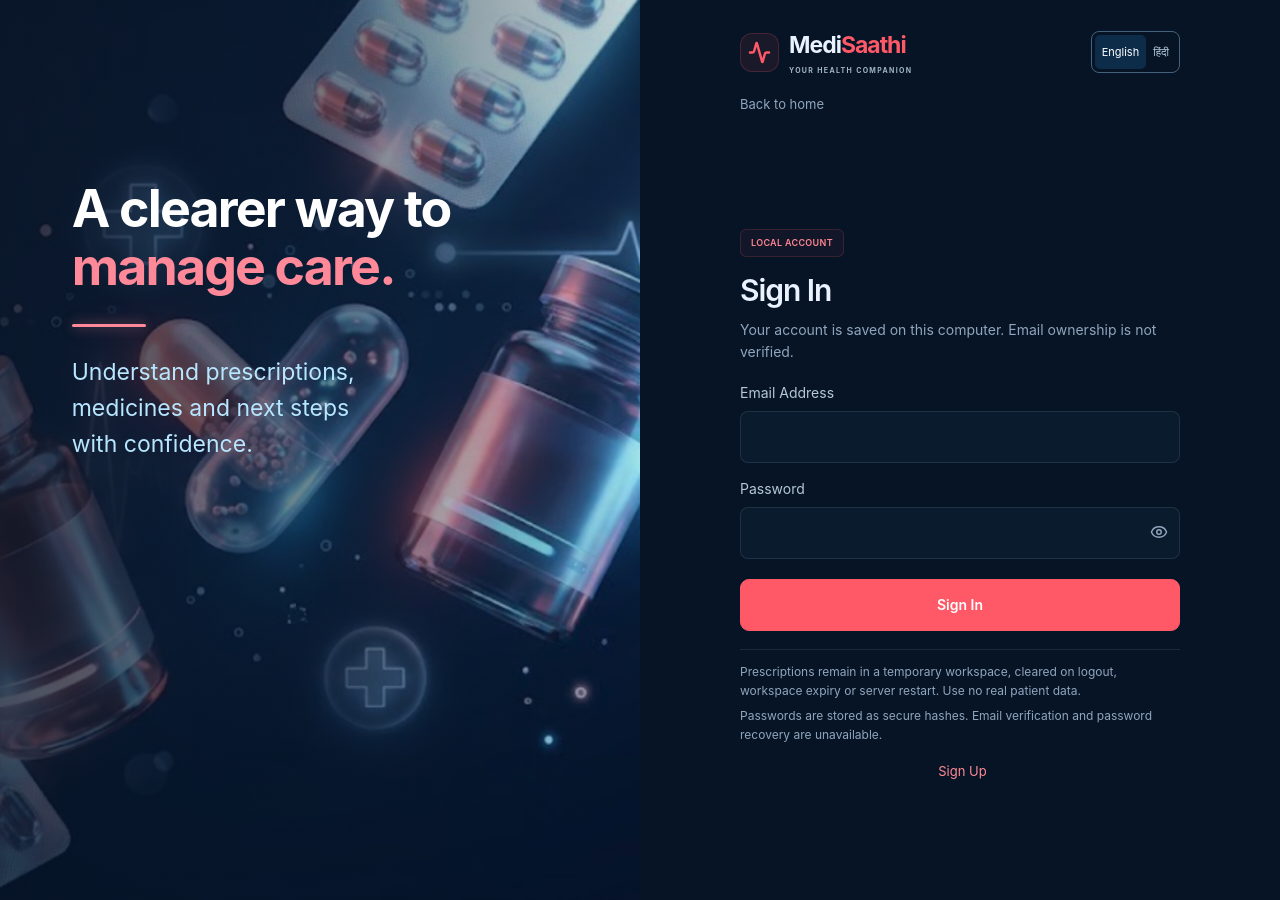
Test: shows rate_limited without fake success
Step 1. Type "asha@example.test" into the field labelled "Email Address" → (960, 437), box x1=740 y1=411 x2=1180 y2=463
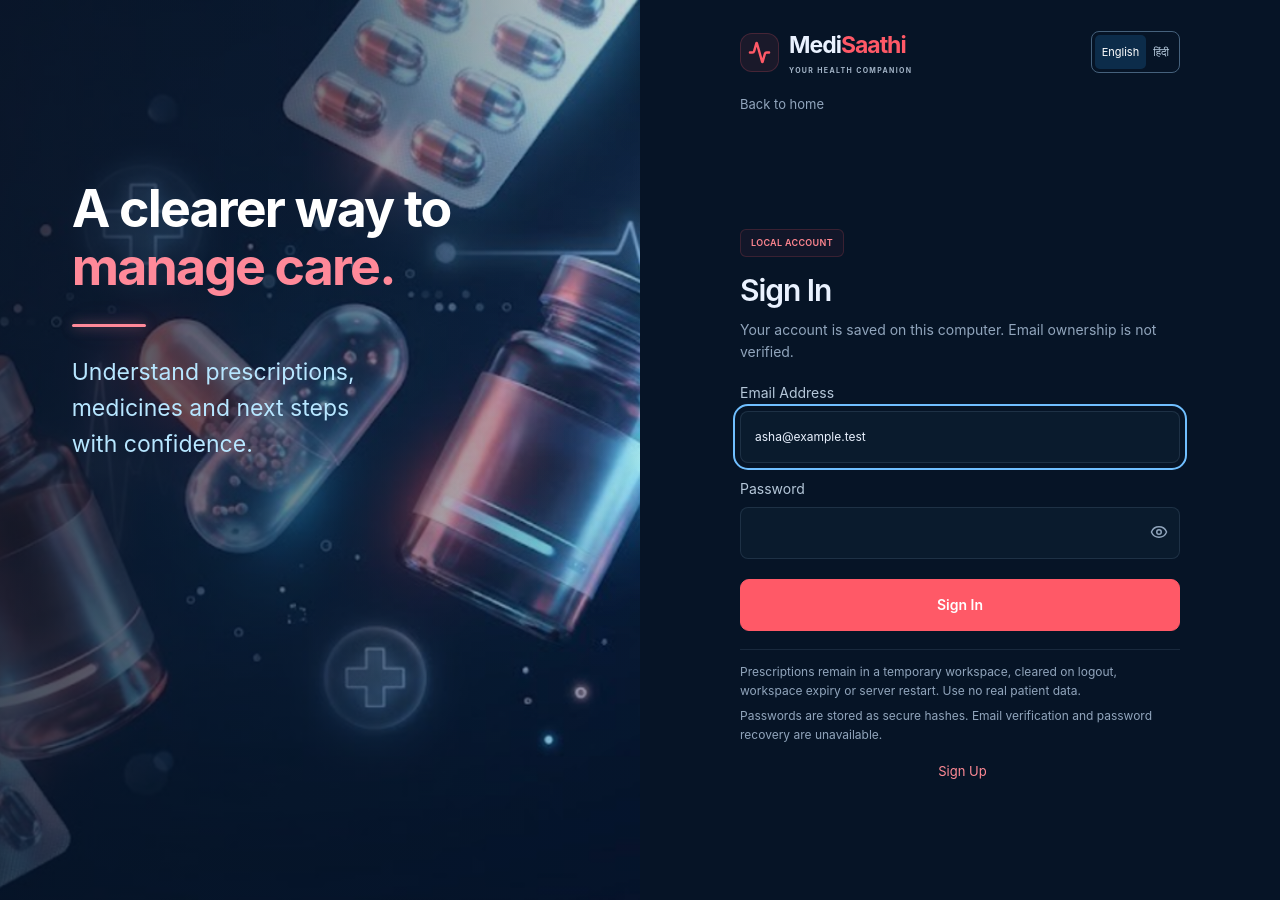
Step 2. Type "incorrect" into the password field labelled "Password" → (960, 533), box x1=740 y1=507 x2=1180 y2=559
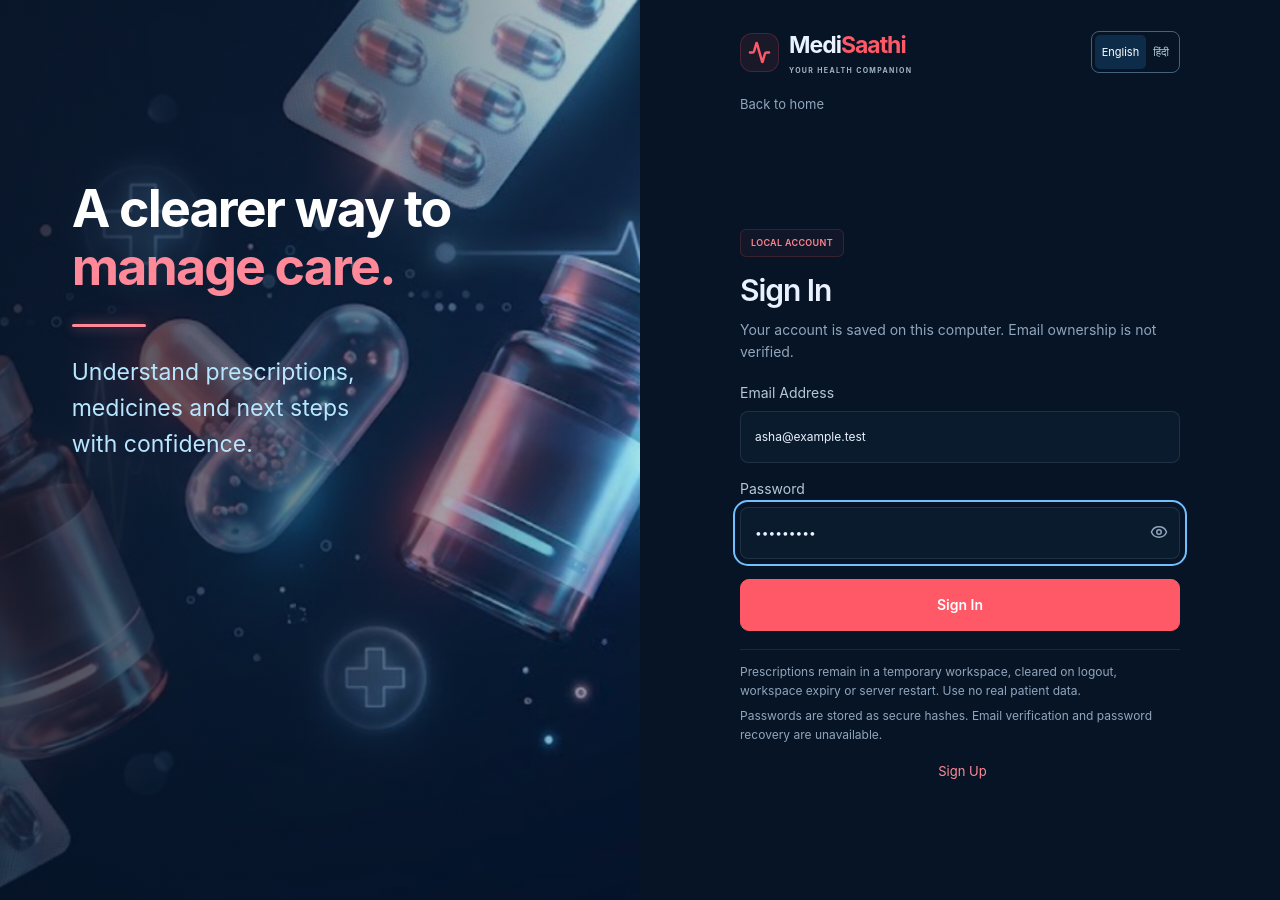
Step 3. Click the button "Sign In" → (960, 605), box x1=740 y1=579 x2=1180 y2=631
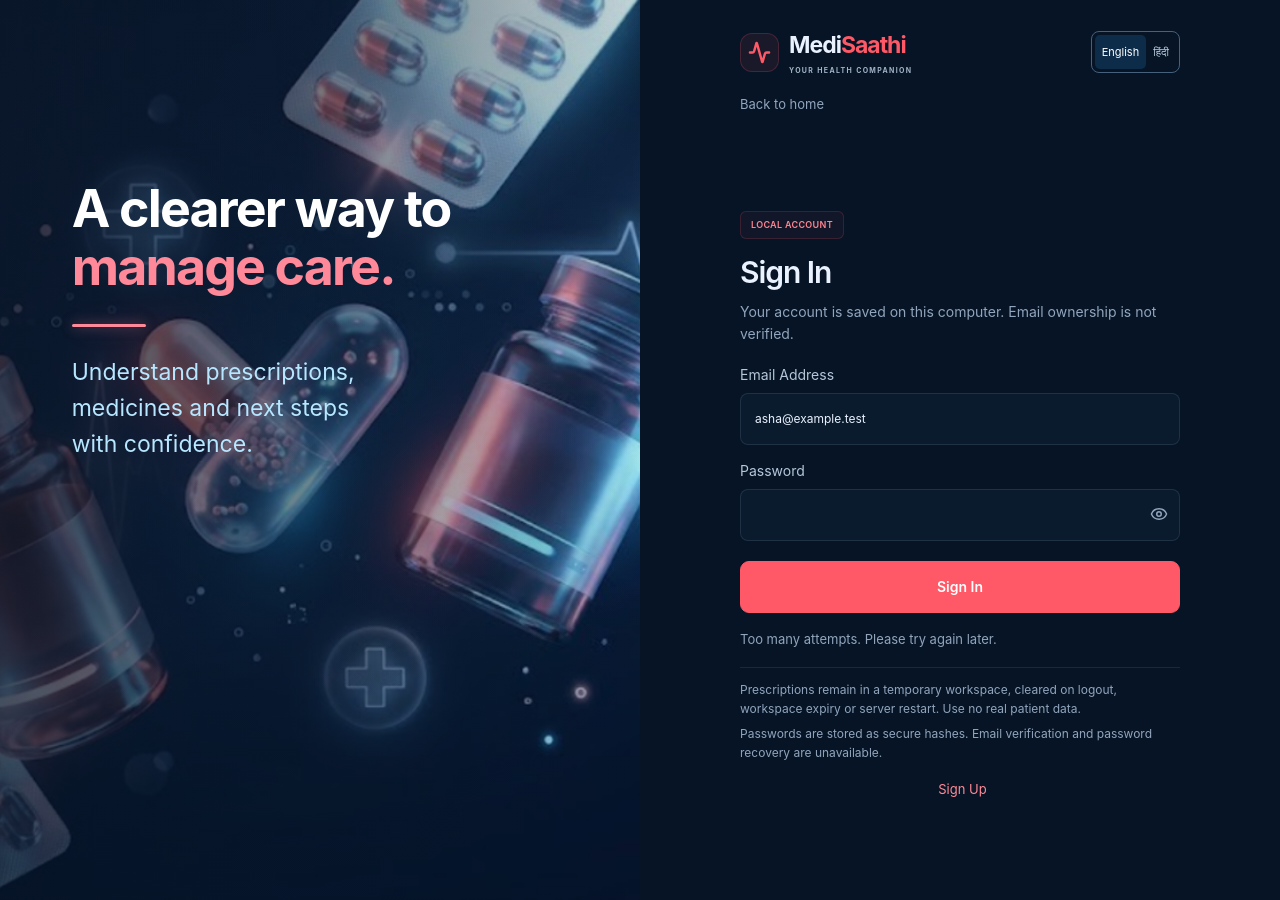
Now the message reads "Too many attempts. Please try again later.", box x1=740 y1=631 x2=997 y2=647
